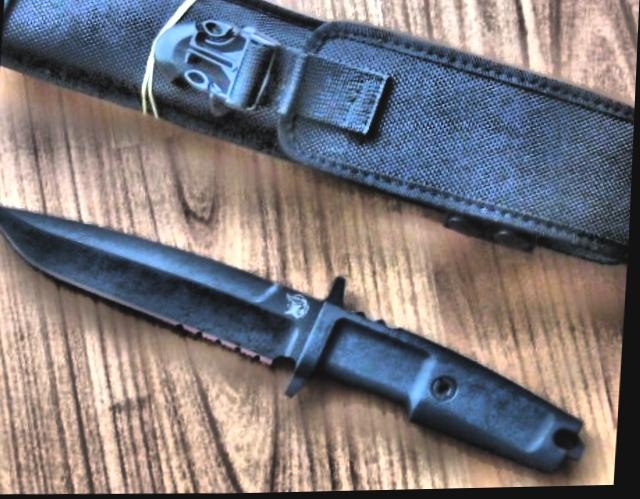knife: (0, 189, 369, 415)
